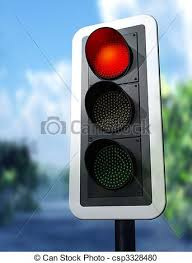red: (68, 18, 167, 229), (73, 22, 169, 225), (83, 29, 140, 198)
